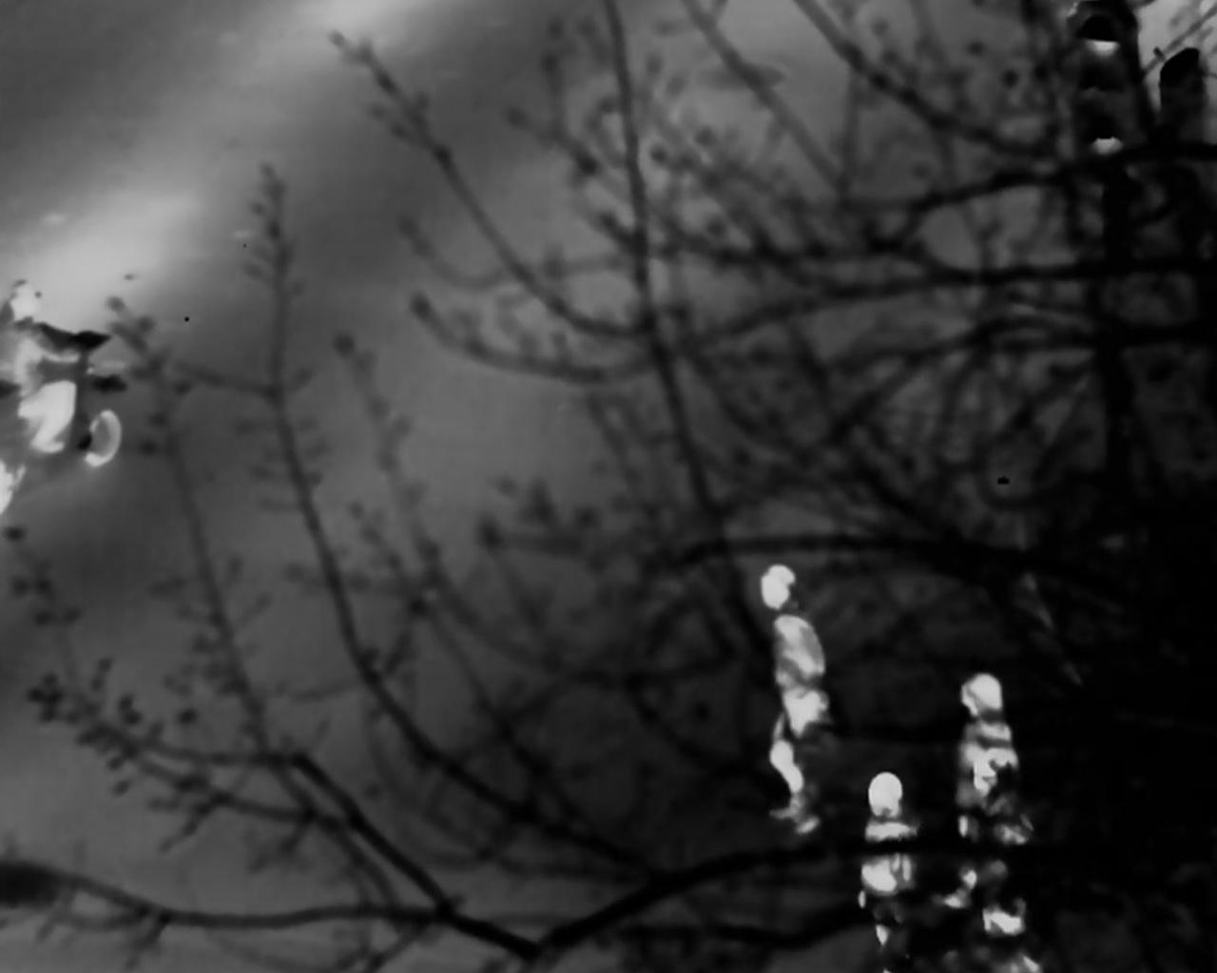person: (748, 565, 840, 845), (957, 677, 1024, 890), (854, 772, 915, 929)
